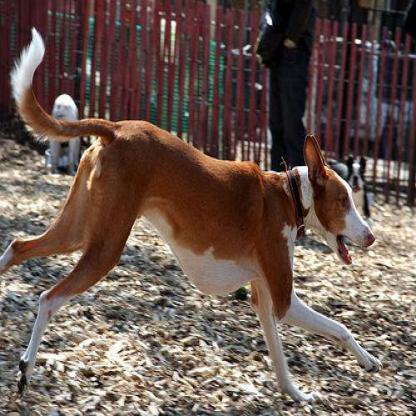dog: (17, 40, 389, 413)
